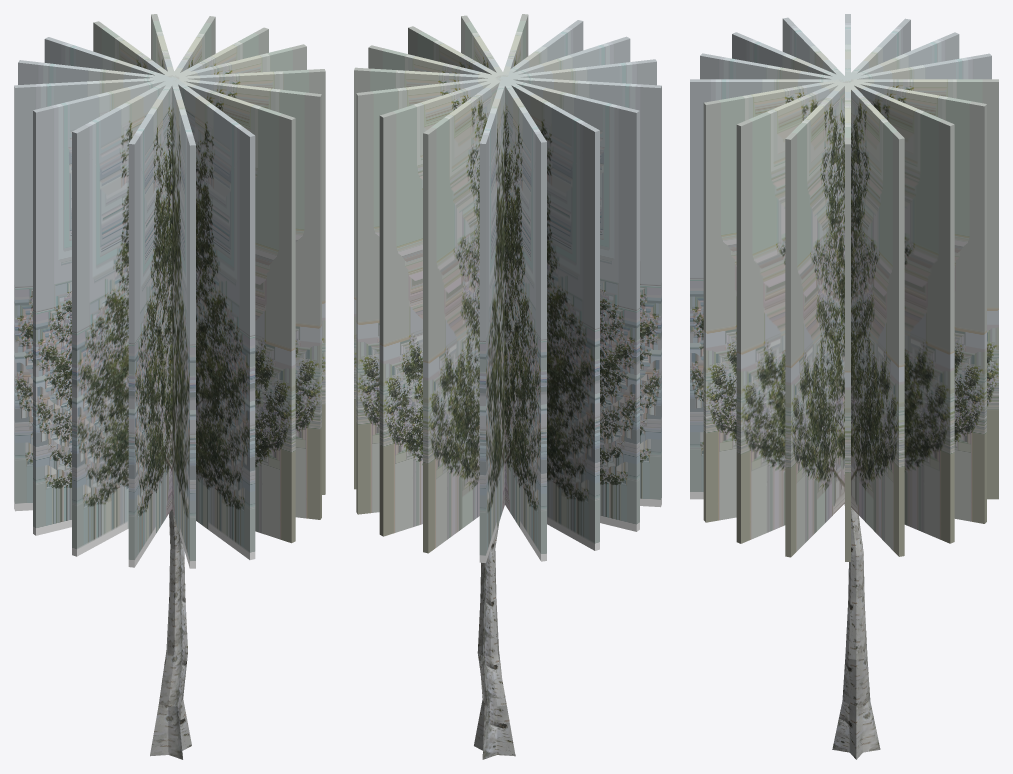
The model's file is tree5.fbx.
3 renders of one model, left to right at view 1: azimuth 30°, elevation 25°; view 2: azimuth 150°, elevation 25°; view 3: azimuth 270°, elevation 25°, orthographic.
Visible parts, largest first — view 1: tree5.002; view 2: tree5.002; view 3: tree5.002.
Part boxes in pixels (x1,y1,x2,y2): tree5.002: (14,14,325,759); tree5.002: (354,14,661,759); tree5.002: (690,14,998,759).
Size of the model in its own units: 11.08 by 26.45 by 11.08.
2 materials, 2 textured.
